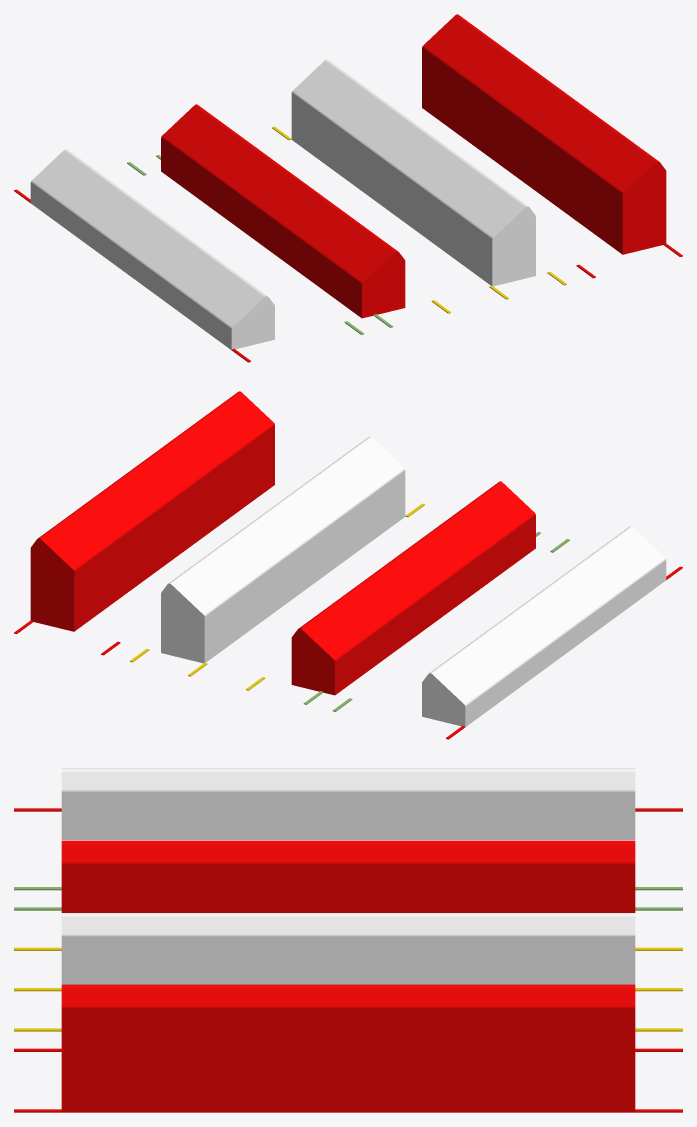
Rendered from long_jump.fbx.
3 renders of one model, top to bottom at view 1: azimuth 30°, elevation 25°; view 2: azimuth 150°, elevation 25°; view 3: azimuth 270°, elevation 25°, orthographic. The views are drawn at different scales.
Visible parts, largest first — view 1: Part 2, Part 4, Part 3, Part 1; view 2: Part 2, Part 4, Part 3, Part 1; view 3: Part 2, Part 3, Part 1, Part 4.
Boxes of the visible parts, x1,y1,x2,y2 form: Part 2: (422, 14, 666, 254); Part 4: (291, 59, 535, 286); Part 3: (161, 104, 405, 318); Part 1: (30, 149, 274, 349); Part 2: (30, 391, 274, 631); Part 4: (161, 436, 405, 663); Part 3: (291, 481, 535, 695); Part 1: (422, 526, 666, 726); Part 2: (61, 984, 635, 1112); Part 3: (61, 840, 635, 912); Part 1: (61, 768, 635, 839); Part 4: (61, 913, 635, 984).
Bounding box in the file's own units: 150 × 28 × 140.
